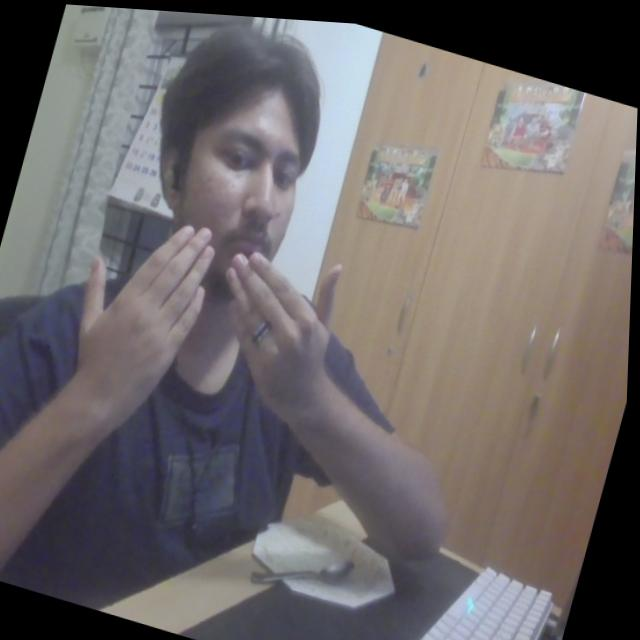thankyou: (44, 172, 364, 473)
